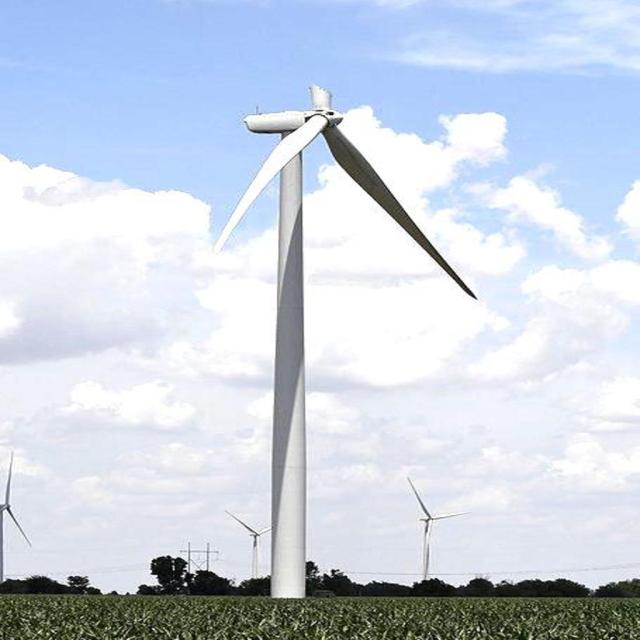crack: (302, 69, 346, 110)
